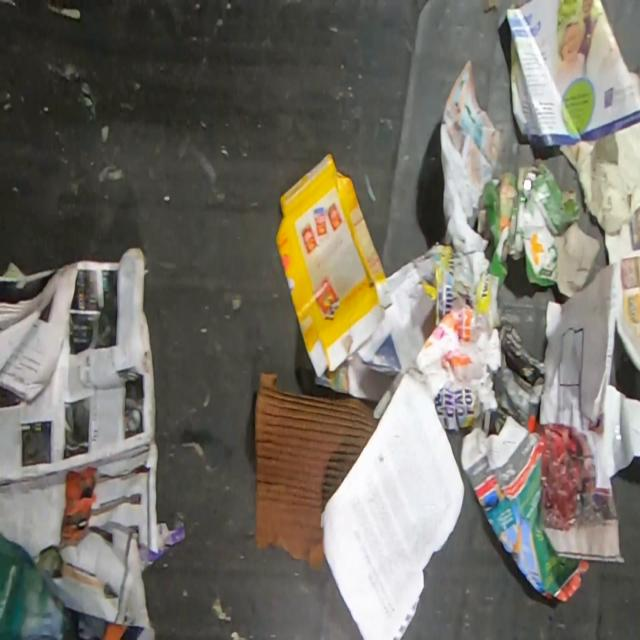cardboard: (273, 152, 397, 379), (254, 371, 381, 570)
metal: (522, 169, 536, 198)
